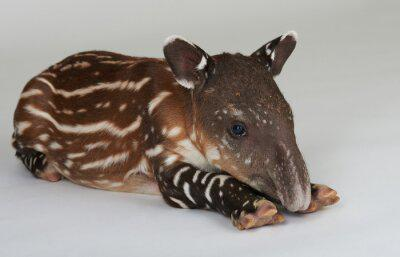Anta: (11, 29, 346, 233)
